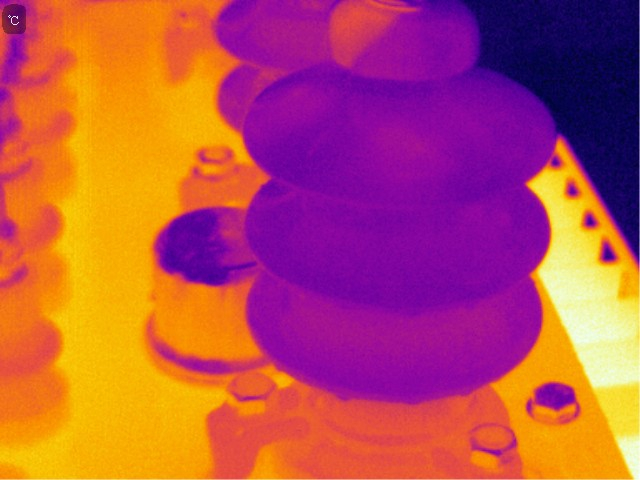Oil: (325, 1, 417, 72), (334, 386, 353, 404)
